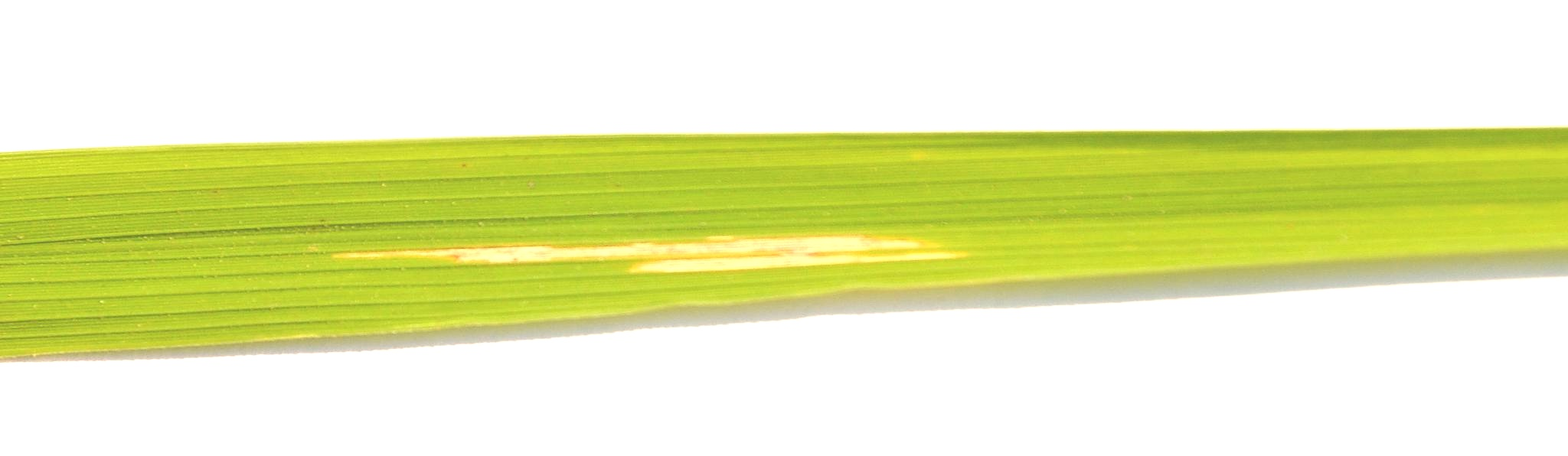Leaf_Blast: (273, 202, 985, 307)
